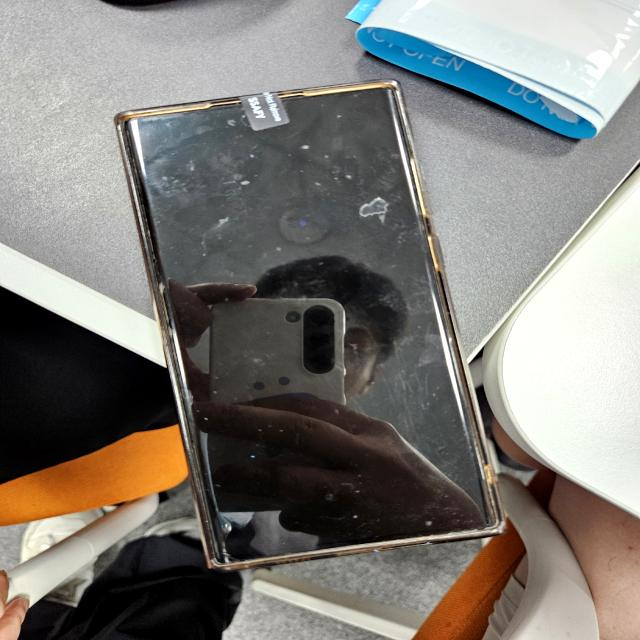phone: (116, 78, 507, 562)
sticker: (242, 93, 288, 131)
